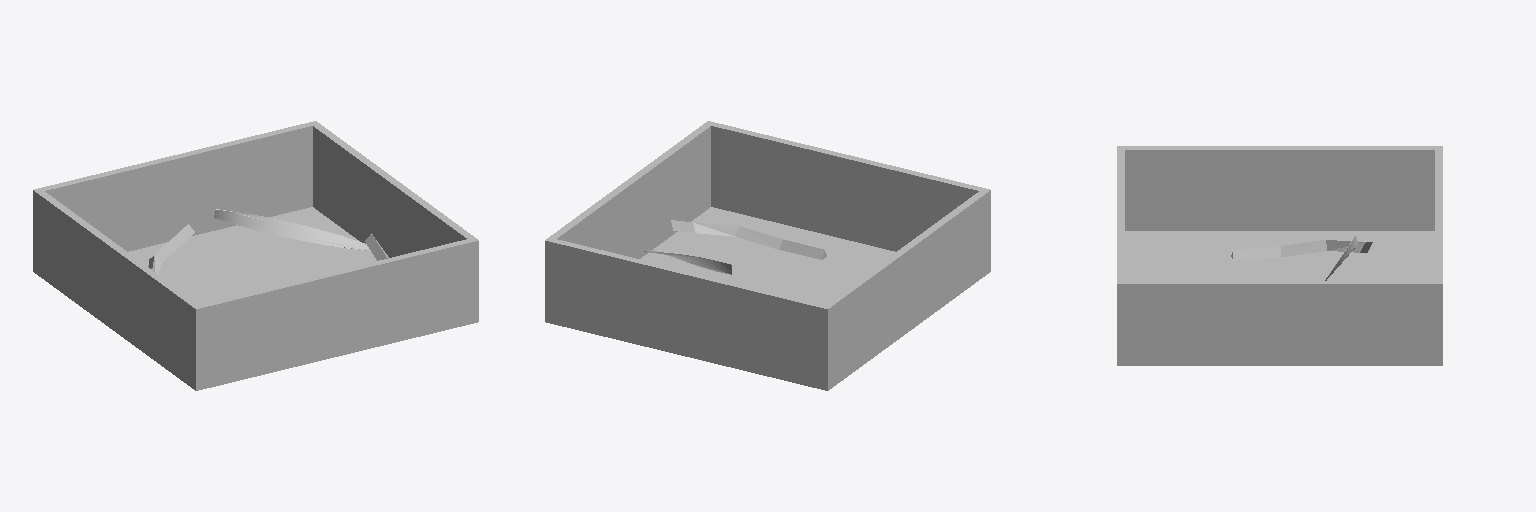
Rendered from surf_level_0.obj.
3 renders of one model, left to right at view 1: azimuth 30°, elevation 25°; view 2: azimuth 150°, elevation 25°; view 3: azimuth 270°, elevation 25°, orthographic.
Parts seen in each view (by area): view 1: Cube, twist; view 2: Cube, twist; view 3: Cube, Surframp.007.
Part boxes in pixels (x1,y1,x2,y2): Cube: (33,121,478,390); twist: (214,209,370,250); Cube: (545,121,990,390); twist: (644,250,731,274); Cube: (1117,146,1442,365); Surframp.007: (1231,246,1280,260).
Bounding box in the file's own units: 80 × 22.08 × 80.